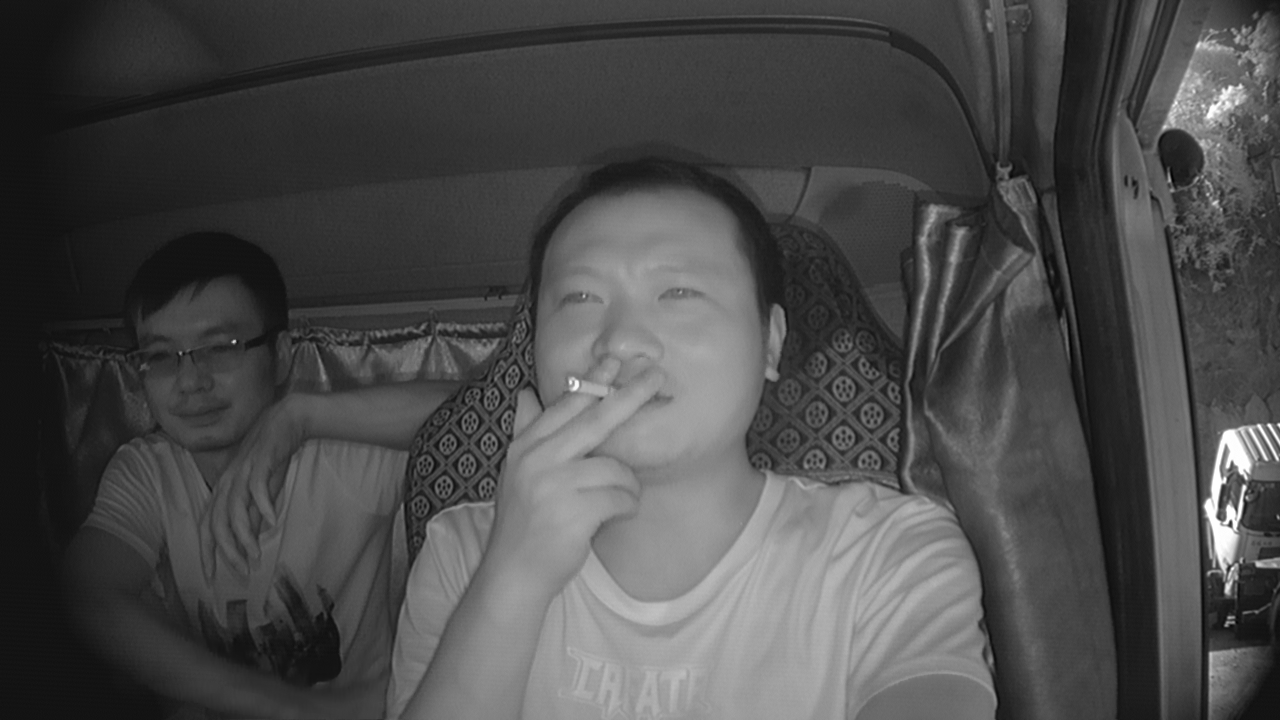hand: (517, 362, 677, 532)
